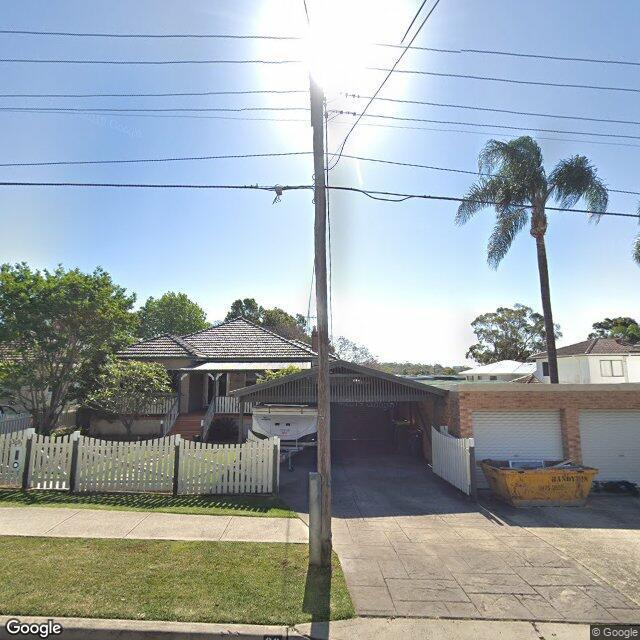timber-pole: (308, 75, 332, 567)
